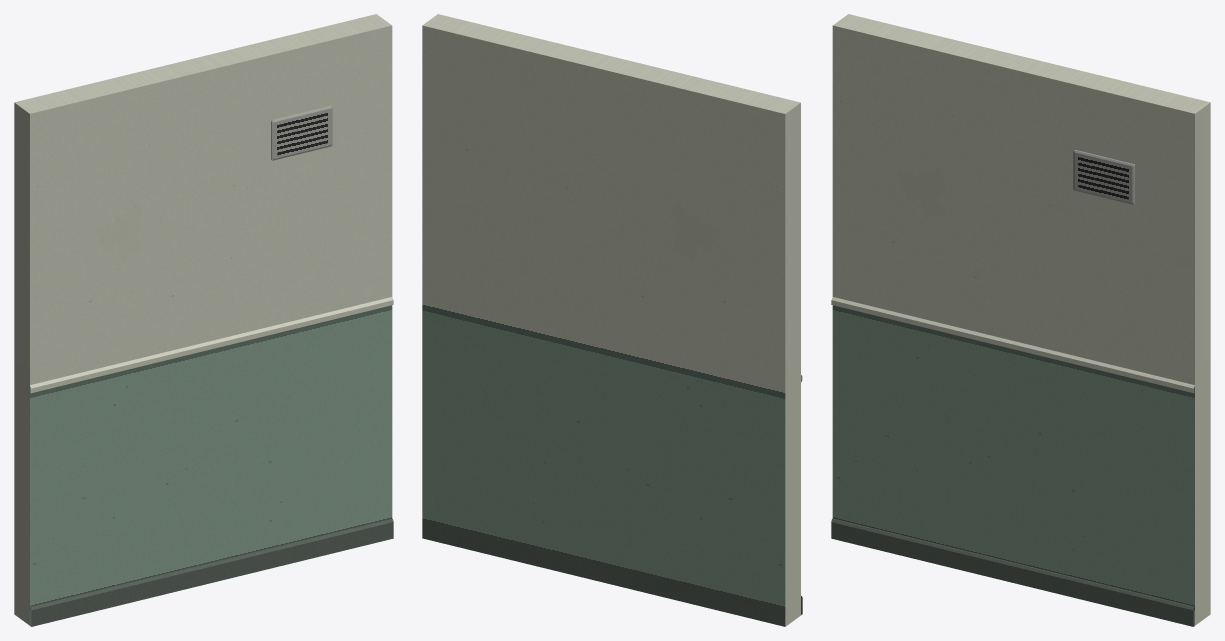
Rendered from wall_2b.glb.
3 renders of one model, left to right at view 1: azimuth 30°, elevation 25°; view 2: azimuth 150°, elevation 25°; view 3: azimuth 330°, elevation 25°, orthographic.
Visible parts, largest first — view 1: wall_body, vent_grille; view 2: wall_body; view 3: wall_body, vent_grille.
Part boxes in pixels (left/top/right/bottom): wall_body: left=14, top=14, right=393, bottom=626; vent_grille: left=271, top=105, right=332, bottom=160; wall_body: left=422, top=14, right=802, bottom=626; wall_body: left=831, top=14, right=1210, bottom=626; vent_grille: left=1073, top=150, right=1134, bottom=204.
Size of the model in its own units: 2 by 2.7 by 0.1656.
Materials: 1 (1 with a texture image).
